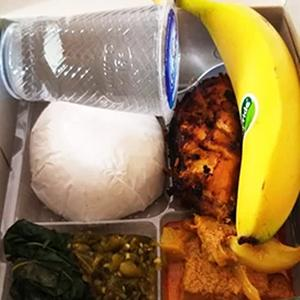buah_sayur_lainnya: (20, 227, 140, 289), (167, 246, 282, 287)
buah_sayur_vitA: (187, 0, 298, 244)
daging: (181, 114, 231, 194)
makanan_berpati: (30, 117, 149, 194)
